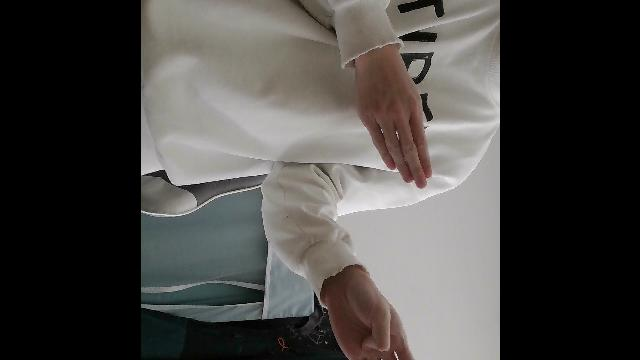four: (354, 44, 432, 194), (322, 260, 431, 360)
